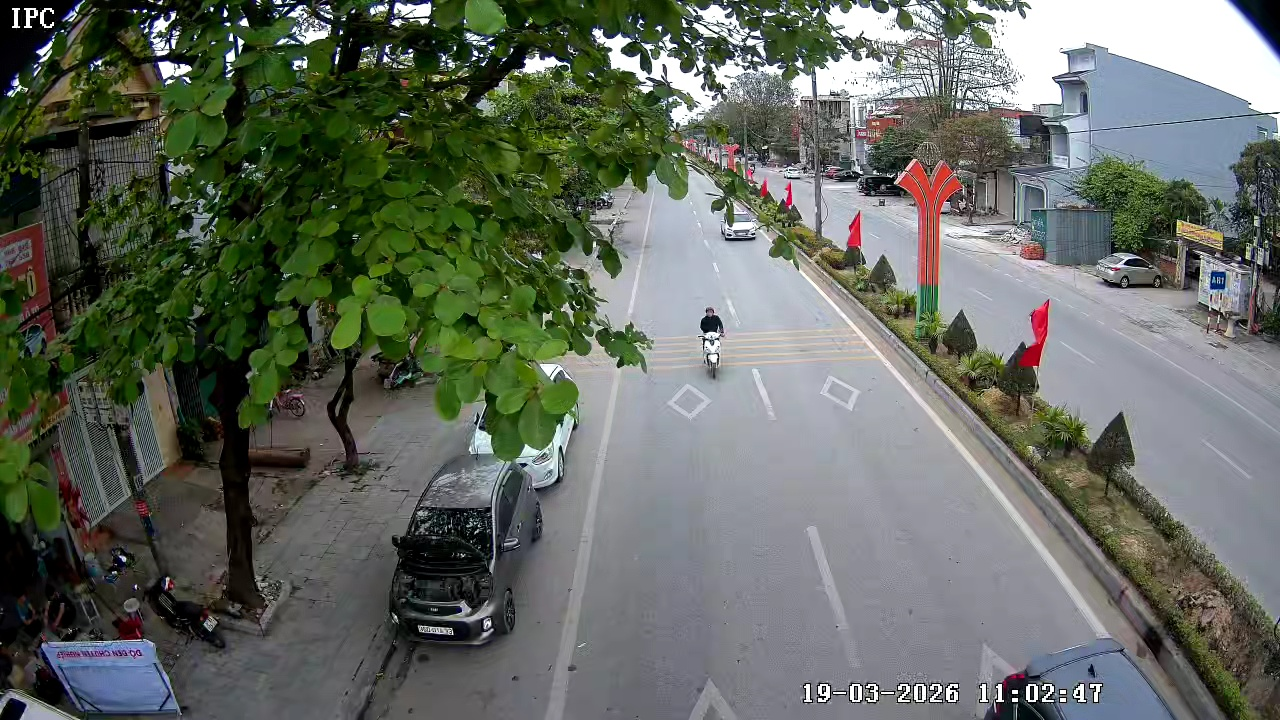car: (388, 454, 545, 647), (721, 206, 759, 241)
motorbike: (695, 303, 727, 380)
